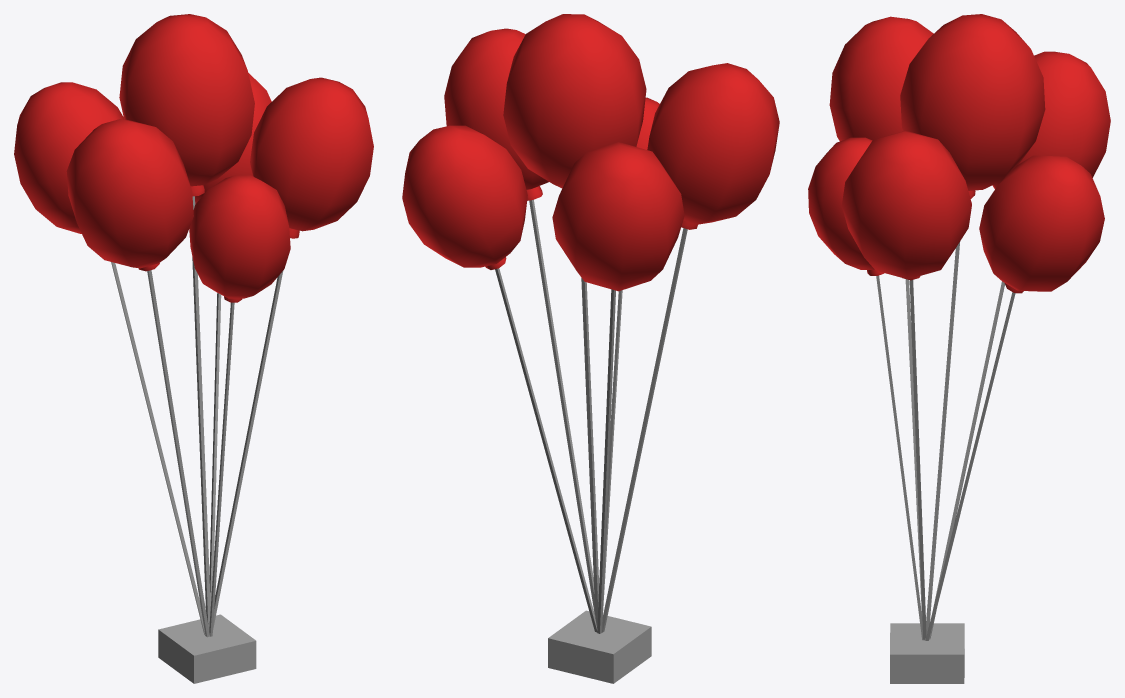
The model's file is Air_Balloons_231109.glb.
3 views of the same model, side by side, from view 1: azimuth 30°, elevation 25°; view 2: azimuth 150°, elevation 25°; view 3: azimuth 270°, elevation 25° (orthographic). The views are drawn at different scales.
Parts seen in each view (by area): view 1: Air_Balloons; view 2: Air_Balloons; view 3: Air_Balloons.
Boxes of the visible parts, x1,y1,x2,y2 form: Air_Balloons: (14,14,373,683); Air_Balloons: (402,14,779,683); Air_Balloons: (808,14,1110,683).
Bounding box in the file's own units: 1.15 × 2.3 × 0.9706.
Materials: 1 (1 with a texture image).
